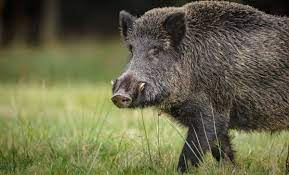boar: (109, 0, 289, 175)
